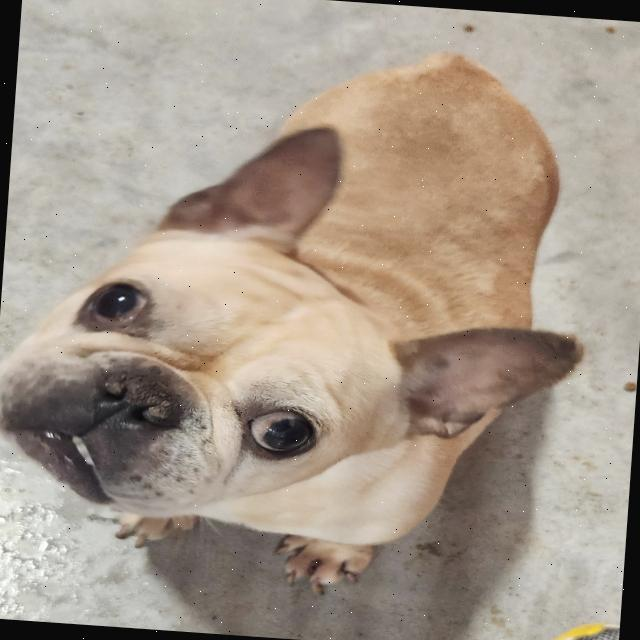french_bulldog_dog: (0, 93, 613, 550)
